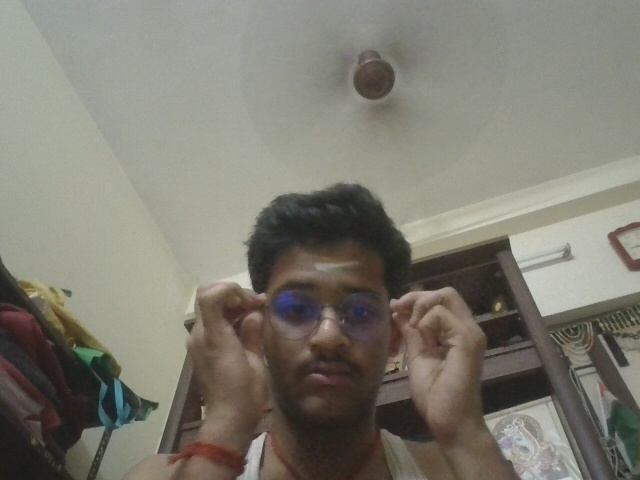real: (243, 238, 415, 410)
